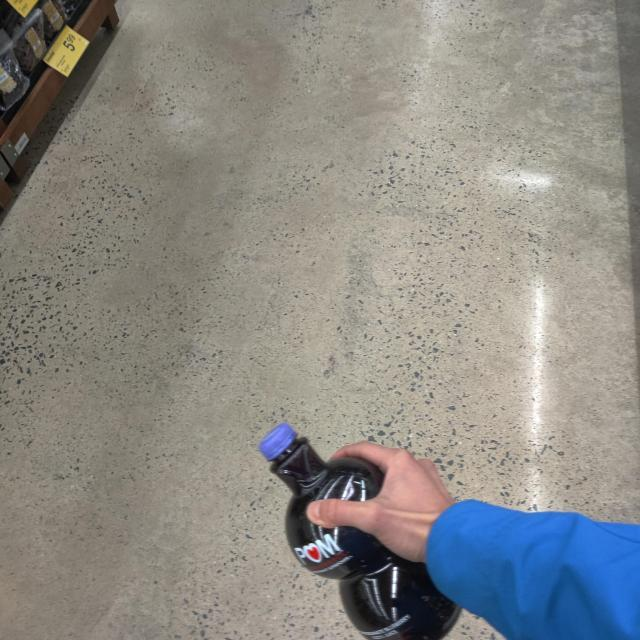Juice: (240, 410, 472, 640)
